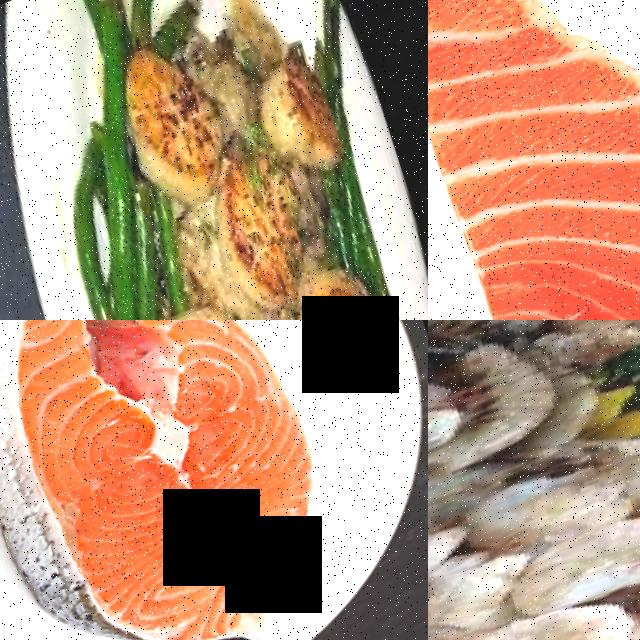salmon: (0, 320, 359, 640), (428, 0, 640, 320)
sea scallops: (108, 34, 243, 224), (205, 164, 311, 319), (247, 51, 349, 194), (290, 269, 393, 320)
shrimp: (502, 500, 640, 631), (448, 339, 563, 464), (428, 449, 508, 554), (428, 320, 538, 355)
